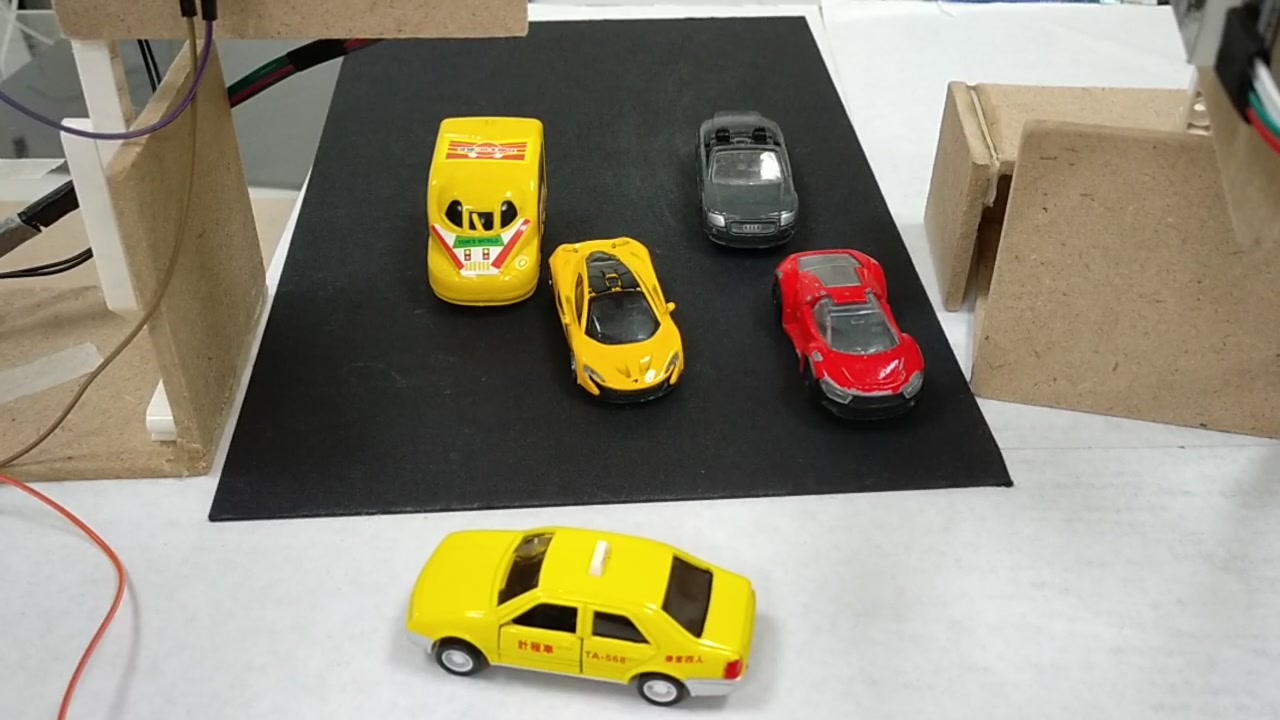car: (404, 526, 756, 710), (777, 252, 924, 415), (546, 237, 684, 405), (698, 110, 797, 249)
